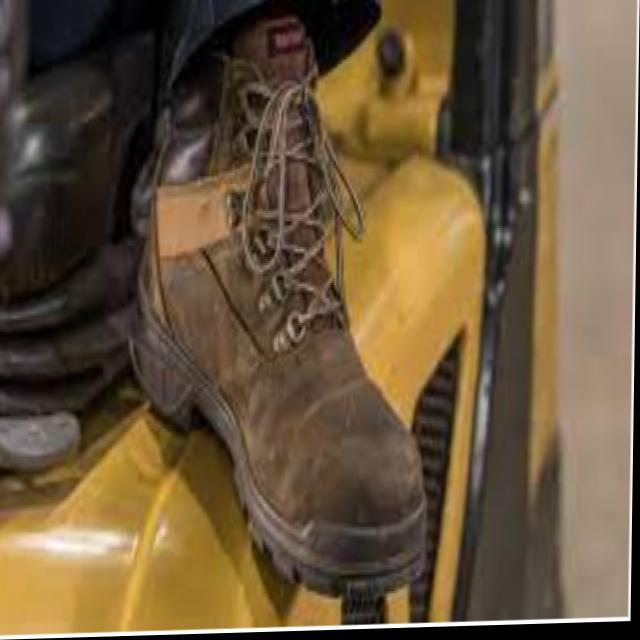shoes: (122, 0, 441, 609)
